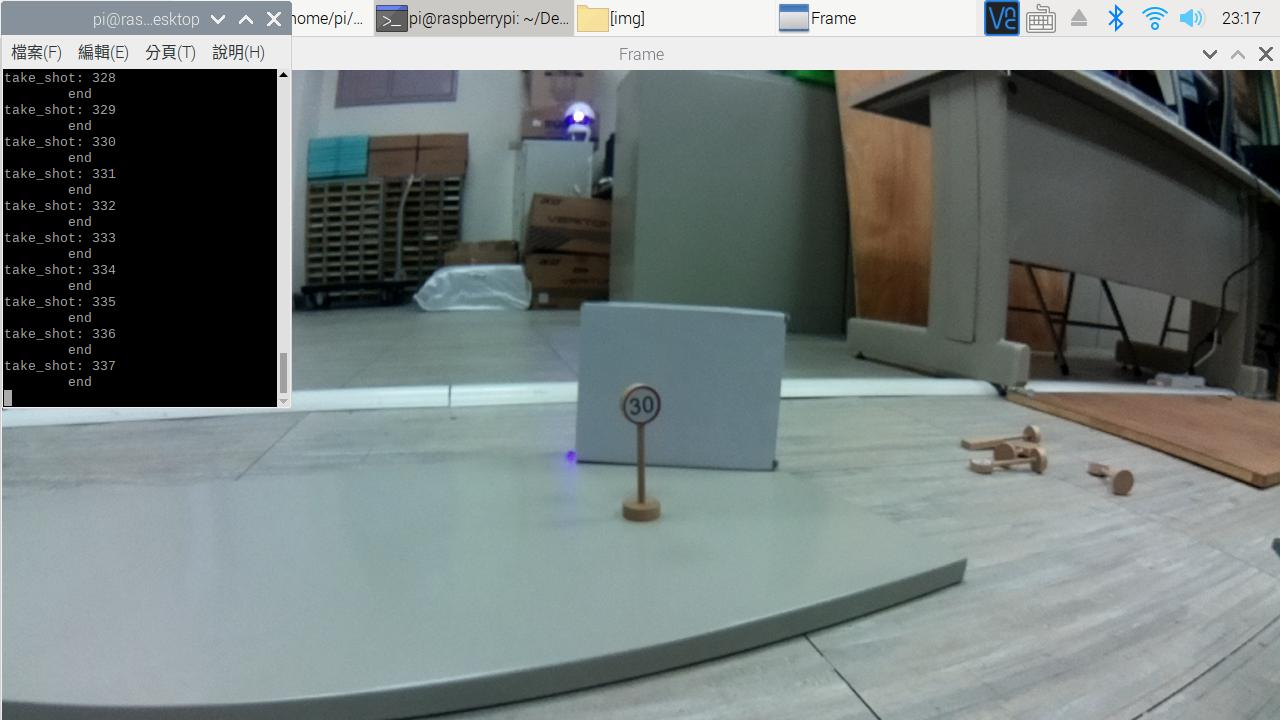Speed30: (600, 377, 692, 447)
